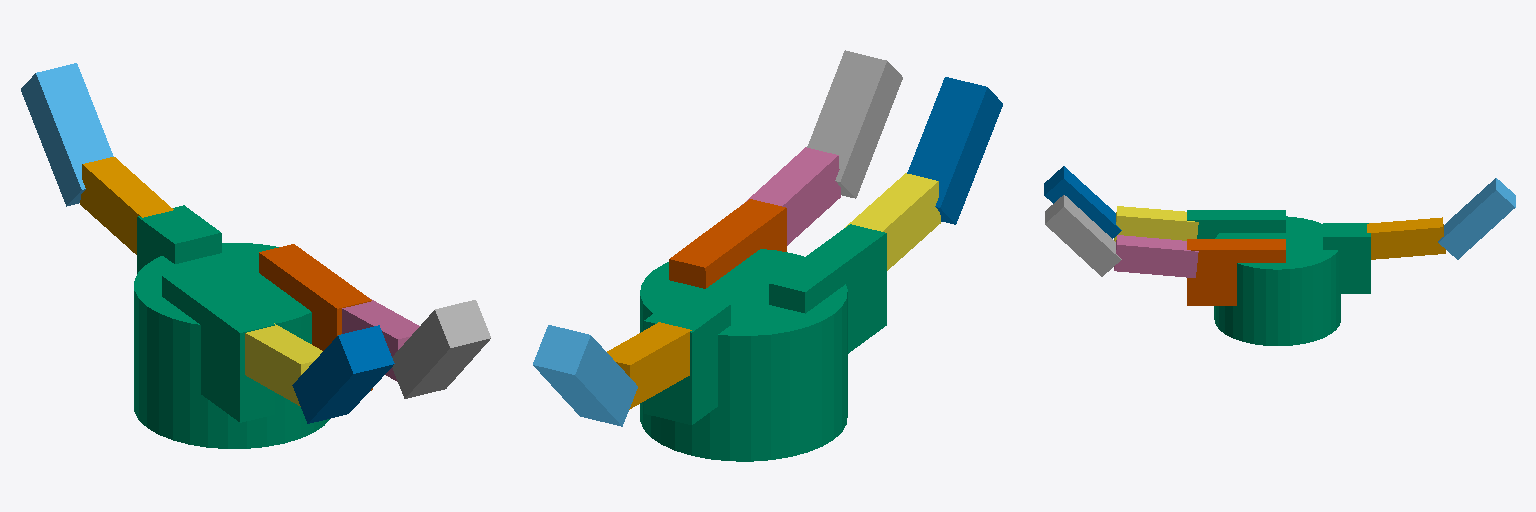
robot.urdf — barret_hand_primitified:
<?xml version="1.0"?>
<robot name="barret_hand_primitified">
  <joint name="barret_hand_primitified_World_root_joint" type="fixed">
    <origin xyz="0. 0. 0." rpy="0. 0. 0."/>
    <parent link="barret_hand_primitified_World"/>
    <child link="bh282_hand_base"/>
  </joint>
  <joint name="barret_hand_primitified_root_joint" type="fixed">
    <origin xyz="0. 0. 0." rpy="0. 0. 0."/>
    <parent link="World"/>
    <child link="barret_hand_primitified_World"/>
  </joint>
  <joint name="bh282_j00" type="revolute">
    <origin xyz="-0.025 0. 0.0754" rpy="1.5707964 1.5707964 0. "/>
    <parent link="bh282_hand_base"/>
    <child link="bh282_finger0_0"/>
    <axis xyz="1. 0. 0."/>
    <limit lower="0." upper="3.1415927" effort="340282346638528859811704183484516925440." velocity="2."/>
  </joint>
  <joint name="bh282_j01" type="revolute">
    <origin xyz="0.028 0.001 0.05 " rpy="-3.1415925 0. -1.5707966"/>
    <parent link="bh282_finger0_0"/>
    <child link="bh282_finger0_1"/>
    <axis xyz="1. 0. 0."/>
    <limit lower="0." upper="2.4434607" effort="340282346638528859811704183484516925440." velocity="2."/>
  </joint>
  <joint name="bh282_j02" type="revolute">
    <origin xyz="0.0002 0.003 -0.0699357" rpy="0.6981317 0. 0. "/>
    <parent link="bh282_finger0_1"/>
    <child link="bh282_finger0_2"/>
    <axis xyz="1. 0. 0."/>
    <limit lower="0." upper="0.837758" effort="340282346638528859811704183484516925440." velocity="2."/>
  </joint>
  <joint name="bh282_j10" type="revolute">
    <origin xyz="0.025 0. 0.0754" rpy="-1.5708 -1.5707963 0. "/>
    <parent link="bh282_hand_base"/>
    <child link="bh282_finger1_0"/>
    <axis xyz="1. 0. 0."/>
    <limit lower="0." upper="3.1415927" effort="340282346638528859811704183484516925440." velocity="2."/>
  </joint>
  <joint name="bh282_j11" type="revolute">
    <origin xyz="-0.0277073 0.001 -0.0501628" rpy="0.0058448 0. -1.570796 "/>
    <parent link="bh282_finger1_0"/>
    <child link="bh282_finger1_1"/>
    <axis xyz="1. 0. 0."/>
    <limit lower="0." upper="2.4434607" effort="340282346638528859811704183484516925440." velocity="2."/>
  </joint>
  <joint name="bh282_j12" type="revolute">
    <origin xyz="0.0002 0.003 -0.0699357" rpy="0.70008 0. 0. "/>
    <parent link="bh282_finger1_1"/>
    <child link="bh282_finger1_2"/>
    <axis xyz="1. 0. 0."/>
    <limit lower="0." upper="0.837758" effort="340282346638528859811704183484516925440." velocity="2."/>
  </joint>
  <joint name="bh282_j21" type="revolute">
    <origin xyz="-0.0018 0.053 0.048 " rpy="1.5707963 -0.0000003 -0.0000003"/>
    <parent link="bh282_hand_base"/>
    <child link="bh282_finger2_1"/>
    <axis xyz="1. 0. 0."/>
    <limit lower="0." upper="2.4434607" effort="340282346638528859811704183484516925440." velocity="2."/>
  </joint>
  <joint name="bh282_j22" type="revolute">
    <origin xyz="0.0002 0.003 -0.0699357" rpy="0.6981317 0. 0. "/>
    <parent link="bh282_finger2_1"/>
    <child link="bh282_finger2_2"/>
    <axis xyz="1. 0. 0."/>
    <limit lower="0." upper="0.837758" effort="340282346638528859811704183484516925440." velocity="2."/>
  </joint>
  <joint name="bh282_perception_palm_mount" type="fixed">
    <origin xyz="0. 0. 0." rpy="0. 0. 0."/>
    <parent link="bh282_hand_base"/>
    <child link="bh282_perception_palm"/>
  </joint>
  <link name="World"/>
  <link name="barret_hand_primitified_World">
    <inertial>
      <origin xyz="0. 0. 0." rpy="0. 0. 0."/>
      <mass value="0.000001"/>
      <inertia ixx="0." ixy="0." ixz="0." iyy="0." iyz="0." izz="0."/>
    </inertial>
  </link>
  <link name="bh282_finger0_0">
    <inertial>
      <origin xyz="0. 0. 0." rpy="0. 0. 0."/>
      <mass value="0.14109"/>
      <inertia ixx="0." ixy="0." ixz="0." iyy="0." iyz="0." izz="0."/>
    </inertial>
    <visual>
      <origin xyz="0.0374328 0. 0.0293218" rpy="0. -1.5707963 0. "/>
      <geometry>
        <box size="0.0701436 0.018148 0.044282 "/>
      </geometry>
    </visual>
    <collision>
      <origin xyz="0.0374328 0. 0.0293218" rpy="0. -1.5707963 0. "/>
      <geometry>
        <box size="0.0701436 0.018148 0.044282 "/>
      </geometry>
    </collision>
  </link>
  <link name="bh282_finger0_1">
    <inertial>
      <origin xyz="0. 0. 0." rpy="0. 0. 0."/>
      <mass value="0.062139"/>
      <inertia ixx="0." ixy="0." ixz="0." iyy="0." iyz="0." izz="0."/>
    </inertial>
    <visual>
      <origin xyz="-0.0007798 0.0037583 -0.0360479" rpy="1.5707935 1.481077 1.5707933"/>
      <geometry>
        <box size="0.0581951 0.0208819 0.0165144"/>
      </geometry>
    </visual>
    <collision>
      <origin xyz="-0.0007798 0.0037583 -0.0360479" rpy="1.5707935 1.481077 1.5707933"/>
      <geometry>
        <box size="0.0581951 0.0208819 0.0165144"/>
      </geometry>
    </collision>
  </link>
  <link name="bh282_finger0_2">
    <inertial>
      <origin xyz="0. 0. 0." rpy="0. 0. 0."/>
      <mass value="0.04166"/>
      <inertia ixx="0." ixy="0." ixz="0." iyy="0." iyz="0." izz="0."/>
    </inertial>
    <visual>
      <origin xyz="-0.0007798 0.0009553 -0.0247046" rpy="1.5707935 1.481077 1.5707933"/>
      <geometry>
        <box size="0.0581951 0.0193735 0.0212805"/>
      </geometry>
    </visual>
    <collision>
      <origin xyz="-0.0007798 0.0009553 -0.0247046" rpy="1.5707935 1.481077 1.5707933"/>
      <geometry>
        <box size="0.0581951 0.0193735 0.0212805"/>
      </geometry>
    </collision>
  </link>
  <link name="bh282_finger1_0">
    <inertial>
      <origin xyz="0. 0. 0." rpy="0. 0. 0."/>
      <mass value="0.14109"/>
      <inertia ixx="0." ixy="0." ixz="0." iyy="0." iyz="0." izz="0."/>
    </inertial>
    <visual>
      <origin xyz="-0.0372607 0. -0.0295401" rpy="0. 1.5649515 0. "/>
      <geometry>
        <box size="0.0701436 0.018148 0.044282 "/>
      </geometry>
    </visual>
  </link>
  <link name="bh282_finger1_1">
    <inertial>
      <origin xyz="0. 0. 0." rpy="0. 0. 0."/>
      <mass value="0.062139"/>
      <inertia ixx="0." ixy="0." ixz="0." iyy="0." iyz="0." izz="0."/>
    </inertial>
    <visual>
      <origin xyz="-0.0007798 0.0037583 -0.0360479" rpy="1.5707935 1.481077 1.5707933"/>
      <geometry>
        <box size="0.0581951 0.0208819 0.0165144"/>
      </geometry>
    </visual>
  </link>
  <link name="bh282_finger1_2">
    <inertial>
      <origin xyz="0. 0. 0." rpy="0. 0. 0."/>
      <mass value="0.04166"/>
      <inertia ixx="0." ixy="0." ixz="0." iyy="0." iyz="0." izz="0."/>
    </inertial>
    <visual>
      <origin xyz="-0.0007798 0.0009553 -0.0247046" rpy="1.5707935 1.481077 1.5707933"/>
      <geometry>
        <box size="0.0581951 0.0193735 0.0212805"/>
      </geometry>
    </visual>
  </link>
  <link name="bh282_finger2_1">
    <inertial>
      <origin xyz="0. 0. 0." rpy="0. 0. 0."/>
      <mass value="0.062139"/>
      <inertia ixx="0." ixy="0." ixz="0." iyy="0." iyz="0." izz="0."/>
    </inertial>
    <visual>
      <origin xyz="-0.0007798 0.0037583 -0.0360479" rpy="1.5707935 1.481077 1.5707933"/>
      <geometry>
        <box size="0.0581951 0.0208819 0.0165144"/>
      </geometry>
    </visual>
  </link>
  <link name="bh282_finger2_2">
    <inertial>
      <origin xyz="0. 0. 0." rpy="0. 0. 0."/>
      <mass value="0.04166"/>
      <inertia ixx="0." ixy="0." ixz="0." iyy="0." iyz="0." izz="0."/>
    </inertial>
    <visual>
      <origin xyz="-0.0007798 0.0009553 -0.0247046" rpy="1.5707935 1.481077 1.5707933"/>
      <geometry>
        <box size="0.0581951 0.0193735 0.0212805"/>
      </geometry>
    </visual>
  </link>
  <link name="bh282_hand_base">
    <inertial>
      <origin xyz="0. 0. 0." rpy="0. 0. 0."/>
      <mass value="0.60858"/>
      <inertia ixx="0." ixy="0." ixz="0." iyy="0." iyz="0." izz="0."/>
    </inertial>
    <visual>
      <origin xyz="0. 0. 0.0199037" rpy="0. 0. 0."/>
      <geometry>
        <cylinder radius="0.045" length="0.06"/>
      </geometry>
    </visual>
    <visual>
      <origin xyz="0. 0.0489742 0.0377972" rpy="0. 0. 0."/>
      <geometry>
        <box size="0.024156 0.0335379 0.044282 "/>
      </geometry>
    </visual>
    <collision>
      <origin xyz="0. 0. 0.0199037" rpy="0. 0. 0."/>
      <geometry>
        <cylinder radius="0.045" length="0.06"/>
      </geometry>
    </collision>
    <collision>
      <origin xyz="0. 0.0489742 0.0377972" rpy="0. 0. 0."/>
      <geometry>
        <box size="0.024156 0.0335379 0.044282 "/>
      </geometry>
    </collision>
  </link>
  <link name="bh282_perception_palm">
    <inertial>
      <origin xyz="0. 0. 0." rpy="0. 0. 0."/>
      <mass value="0.60858"/>
      <inertia ixx="0." ixy="0." ixz="0." iyy="0." iyz="0." izz="0."/>
    </inertial>
  </link>
</robot>

--- Facts derived from the render (not from the file) ---
Views: 3 orthographic renders of the robot side by side, from view 1: azimuth 30°, elevation 25°; view 2: azimuth 150°, elevation 25°; view 3: azimuth 270°, elevation 25°.
Robot: barret_hand_primitified — 12 links, 11 joints (8 revolute, 3 fixed); root link World; default pose: all joints at 0.
Links seen in each view (by area): view 1: bh282_hand_base, bh282_finger0_0, bh282_finger2_2, bh282_finger1_2, bh282_finger0_2, bh282_finger1_0, bh282_finger2_1, bh282_finger0_1, bh282_finger1_1; view 2: bh282_hand_base, bh282_finger0_0, bh282_finger1_2, bh282_finger0_2, bh282_finger2_2, bh282_finger1_0, bh282_finger1_1, bh282_finger0_1, bh282_finger2_1; view 3: bh282_hand_base, bh282_finger1_0, bh282_finger2_2, bh282_finger1_2, bh282_finger1_1, bh282_finger2_1, bh282_finger0_0, bh282_finger0_1, bh282_finger0_2.
Link boxes in pixels (x1,y1,x2,y2): bh282_hand_base: (134, 205, 329, 448); bh282_finger0_0: (162, 267, 274, 422); bh282_finger2_2: (21, 63, 113, 206); bh282_finger1_2: (392, 300, 490, 398); bh282_finger0_2: (292, 325, 394, 423); bh282_finger1_0: (259, 244, 372, 390); bh282_finger2_1: (80, 157, 173, 254); bh282_finger0_1: (245, 323, 322, 406); bh282_finger1_1: (342, 297, 419, 381); bh282_hand_base: (640, 249, 847, 461); bh282_finger0_0: (769, 224, 886, 353); bh282_finger1_2: (807, 50, 902, 198); bh282_finger0_2: (907, 77, 1002, 224); bh282_finger2_2: (533, 325, 637, 426); bh282_finger1_0: (669, 199, 786, 288); bh282_finger1_1: (742, 147, 840, 245); bh282_finger0_1: (845, 173, 940, 270); bh282_finger2_1: (607, 322, 691, 409); bh282_hand_base: (1214, 216, 1370, 345); bh282_finger1_0: (1187, 239, 1285, 305); bh282_finger2_2: (1438, 178, 1515, 259); bh282_finger1_2: (1045, 195, 1121, 276); bh282_finger1_1: (1114, 235, 1198, 277); bh282_finger2_1: (1367, 217, 1445, 259); bh282_finger0_0: (1187, 210, 1285, 238); bh282_finger0_1: (1114, 206, 1198, 241); bh282_finger0_2: (1044, 166, 1121, 238).
Bounding box of the posed robot: 0.09 × 0.3343 × 0.1055 m (x, y, z).
Geometry: primitives only (box / cylinder / sphere), no mesh files.